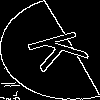K: (25, 25, 100, 73)
